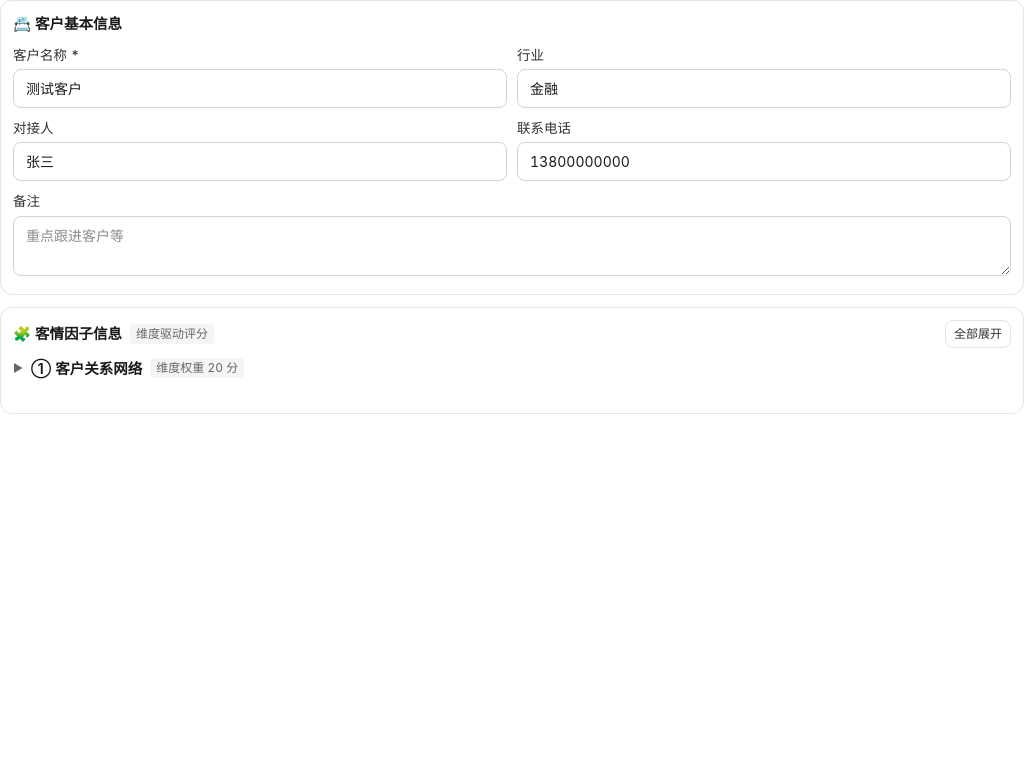
Test case: CustomerForm 二级维度分组 › 收起某个二级维度分组后其因子隐藏
This screenshot has width=1024, height=757.
Click the button "▶ ① 客户关系网络 维度权重 20 分": (99, 368) x1=13 y1=358 x2=1011 y2=379
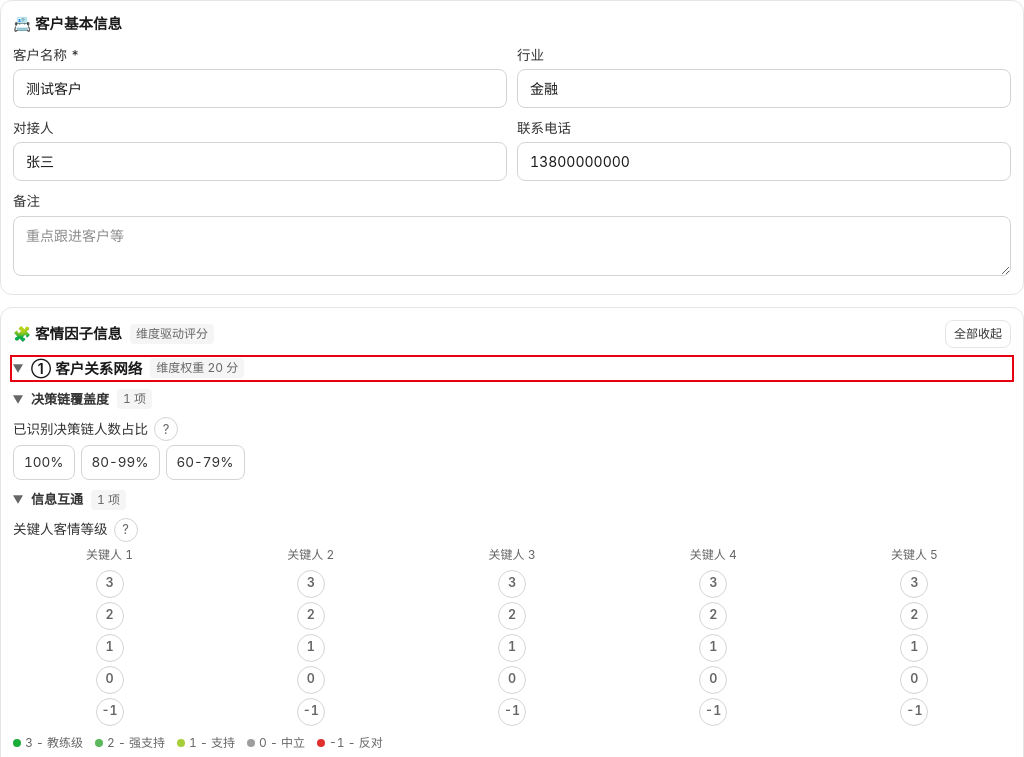
Click the button "▶ 信息互通 1 项": (57, 499) x1=13 y1=490 x2=1011 y2=510
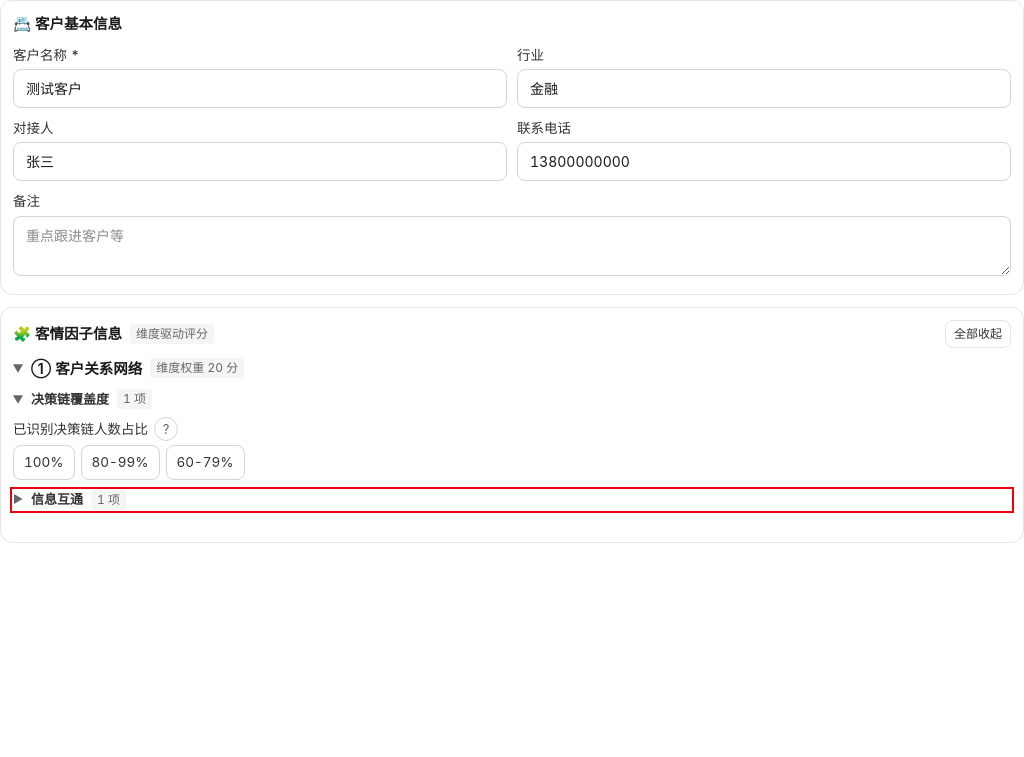
Check: the text "已识别决策链人数占比" is shown, box x1=13 y1=419 x2=148 y2=439
Check: the text "关键人客情等级" is gone
